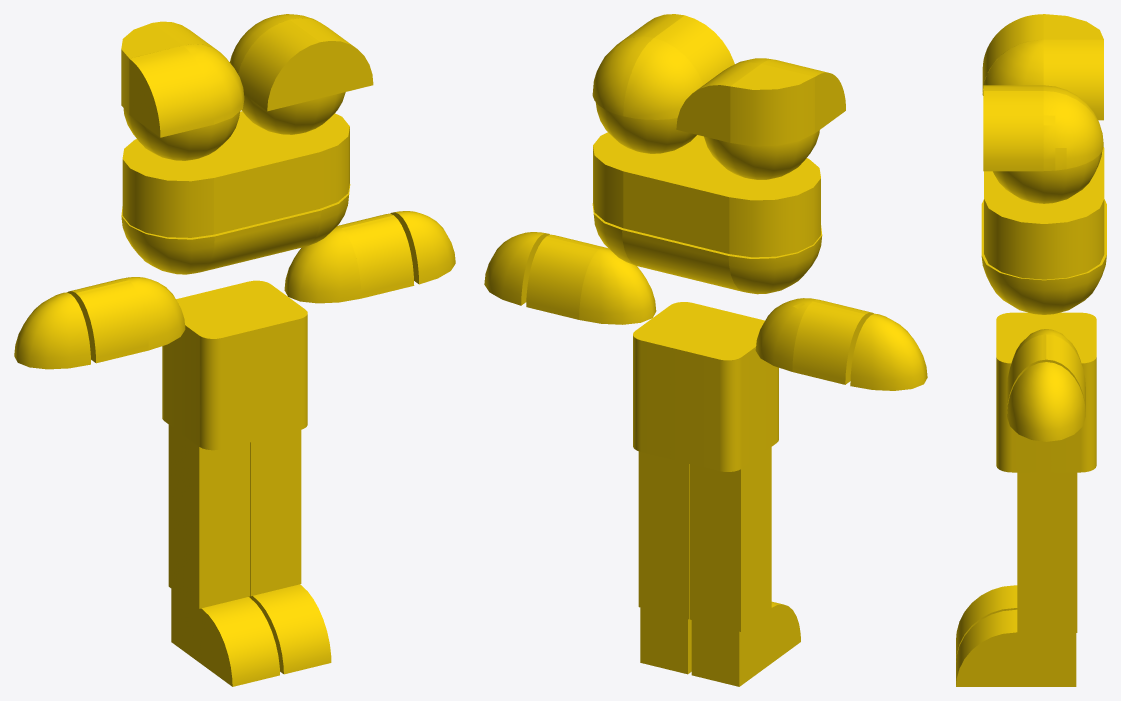
File: FullBody.glb
The picture shows the model from 3 angles, left to right: view 1: azimuth 30°, elevation 25°; view 2: azimuth 150°, elevation 25°; view 3: azimuth 270°, elevation 25°; orthographic projection. The views are drawn at different scales.
Parts seen in each view (by area): view 1: ROW8_A, ROW8_B, ROW9_A, ROW1_front_A, ROW3_front_A, ROW6_front_A, ROW1_front_C, ROW3_front_C, ROW3_front_B, ROW9_B, ROW7_front_A, ROW5_front_B (+24 smaller); view 2: ROW8_A, ROW8_B, ROW1_back_A, ROW3_back_A, ROW6_back_A, ROW9_A, ROW3_back_B, ROW3_back_C, ROW7_back_A, ROW1_back_C, ROW5_back_B, ROW5_back_A (+24 smaller); view 3: ROW8_B, ROW9_B, ROW1_front_D, ROW3_front_D, ROW3_back_D, ROW1_back_D, ROW1_back_B, ROW5_front_F, ROW5_back_F, ROW1_front_B, ROW7_front_B, ROW7_back_B (+17 smaller).
Part boxes in pixels (x1=…): ROW8_A: x1=168, y1=425, x2=249, y2=608; ROW8_B: x1=250, y1=430, x2=301, y2=596; ROW9_A: x1=171, y1=589, x2=279, y2=686; ROW1_front_A: x1=129, y1=45, x2=213, y2=137; ROW3_front_A: x1=130, y1=159, x2=213, y2=237; ROW6_front_A: x1=182, y1=310, x2=260, y2=394; ROW1_front_C: x1=238, y1=20, x2=320, y2=111; ROW3_front_C: x1=237, y1=133, x2=319, y2=221; ROW3_front_B: x1=190, y1=142, x2=267, y2=234; ROW9_B: x1=249, y1=584, x2=331, y2=674; ROW7_front_A: x1=182, y1=379, x2=260, y2=450; ROW5_front_B: x1=76, y1=280, x2=148, y2=363; ROW8_A: x1=690, y1=447, x2=771, y2=631; ROW8_B: x1=638, y1=451, x2=689, y2=619; ROW1_back_A: x1=730, y1=64, x2=814, y2=146; ROW3_back_A: x1=729, y1=178, x2=813, y2=257; ROW6_back_A: x1=680, y1=331, x2=759, y2=416; ROW9_A: x1=691, y1=601, x2=800, y2=686; ROW3_back_B: x1=675, y1=161, x2=752, y2=253; ROW3_back_C: x1=623, y1=152, x2=705, y2=240; ROW7_back_A: x1=680, y1=400, x2=759, y2=471; ROW1_back_C: x1=623, y1=38, x2=703, y2=119; ROW5_back_B: x1=792, y1=301, x2=865, y2=384; ROW5_back_A: x1=850, y1=315, x2=923, y2=390; ROW8_B: x1=1017, y1=472, x2=1077, y2=632; ROW9_B: x1=956, y1=609, x2=1076, y2=686; ROW1_front_D: x1=983, y1=91, x2=1043, y2=171; ROW3_front_D: x1=984, y1=198, x2=1044, y2=279; ROW3_back_D: x1=1044, y1=198, x2=1104, y2=279; ROW1_back_D: x1=1043, y1=91, x2=1103, y2=170; ROW1_back_B: x1=1043, y1=39, x2=1103, y2=120; ROW5_front_F: x1=1007, y1=362, x2=1046, y2=441; ROW5_back_F: x1=1046, y1=362, x2=1085, y2=441; ROW1_front_B: x1=982, y1=39, x2=1043, y2=95; ROW7_front_B: x1=996, y1=412, x2=1046, y2=472; ROW7_back_B: x1=1046, y1=412, x2=1096, y2=472.
Bounding box in the file's own units: 8.17 × 10.97 × 2.51.
